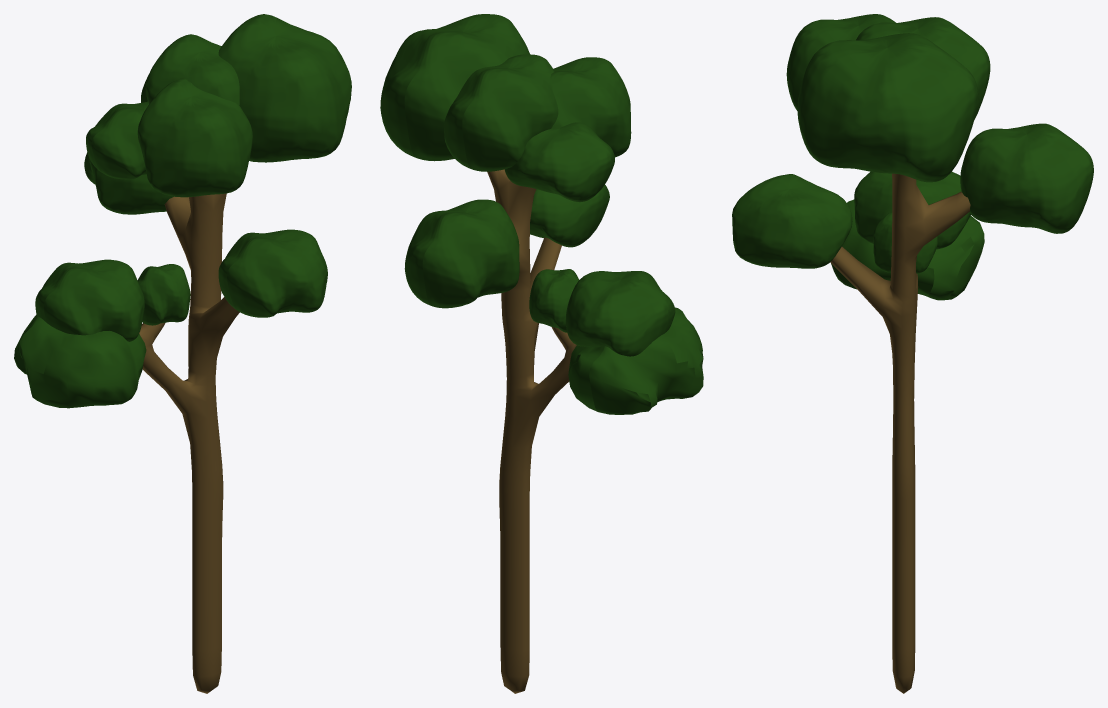
The model's file is tree4.gltf.
The picture shows the model from 3 angles, left to right: view 1: azimuth 30°, elevation 25°; view 2: azimuth 150°, elevation 25°; view 3: azimuth 270°, elevation 25°; orthographic projection. The views are drawn at different scales.
Visible parts, largest first — view 1: Sphere.006; view 2: Sphere.006; view 3: Sphere.006.
Boxes of the visible parts, <box> form: Sphere.006: <box>14,14,351,693</box>; Sphere.006: <box>380,14,703,693</box>; Sphere.006: <box>732,14,1093,693</box>.
Bounding box in the file's own units: 5.7 × 11.57 × 5.54.
